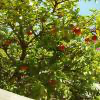Peach leaf: (23, 83, 35, 89), (94, 40, 99, 50), (61, 29, 66, 38), (13, 1, 23, 3)
